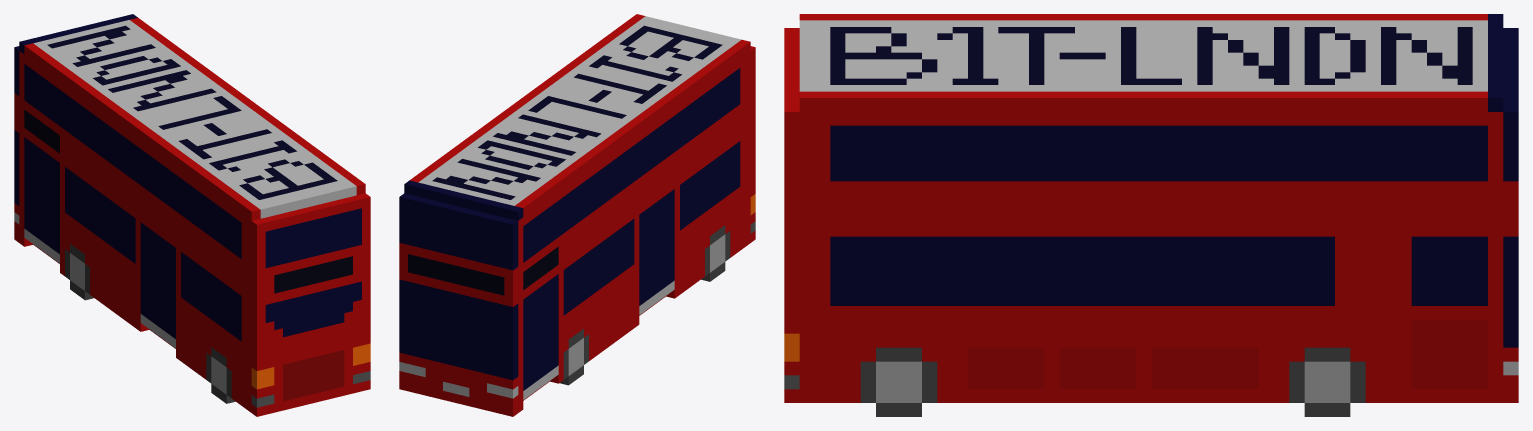
File: veh_Double decker bus.obj
3 renders of one model, left to right at view 1: azimuth 30°, elevation 25°; view 2: azimuth 150°, elevation 25°; view 3: azimuth 270°, elevation 25°, orthographic. The views are drawn at different scales.
Bounding box in the file's own units: 1.3 × 2.3 × 4.8.
1 material, 1 textured.
